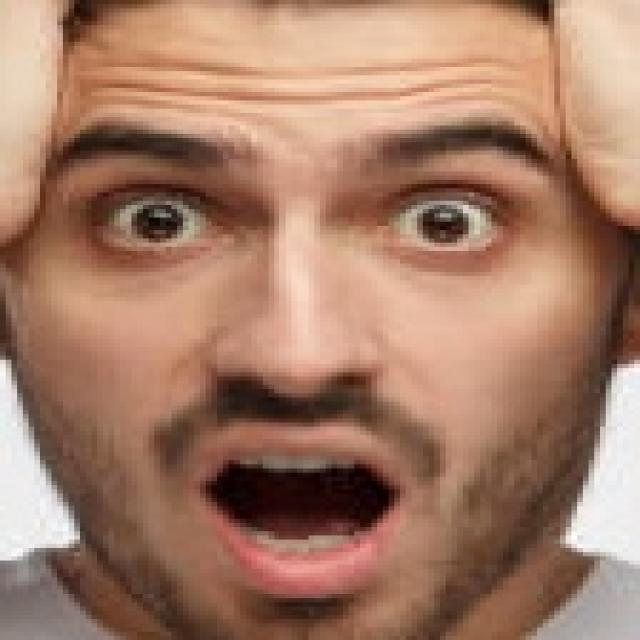Anxiety: (6, 0, 640, 636)
